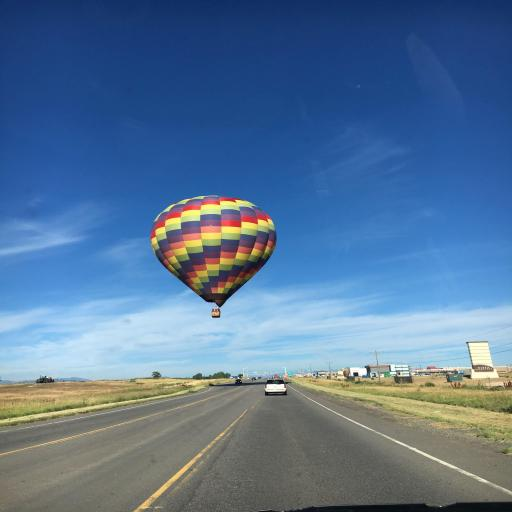hot air ballon: (150, 195, 278, 317)
